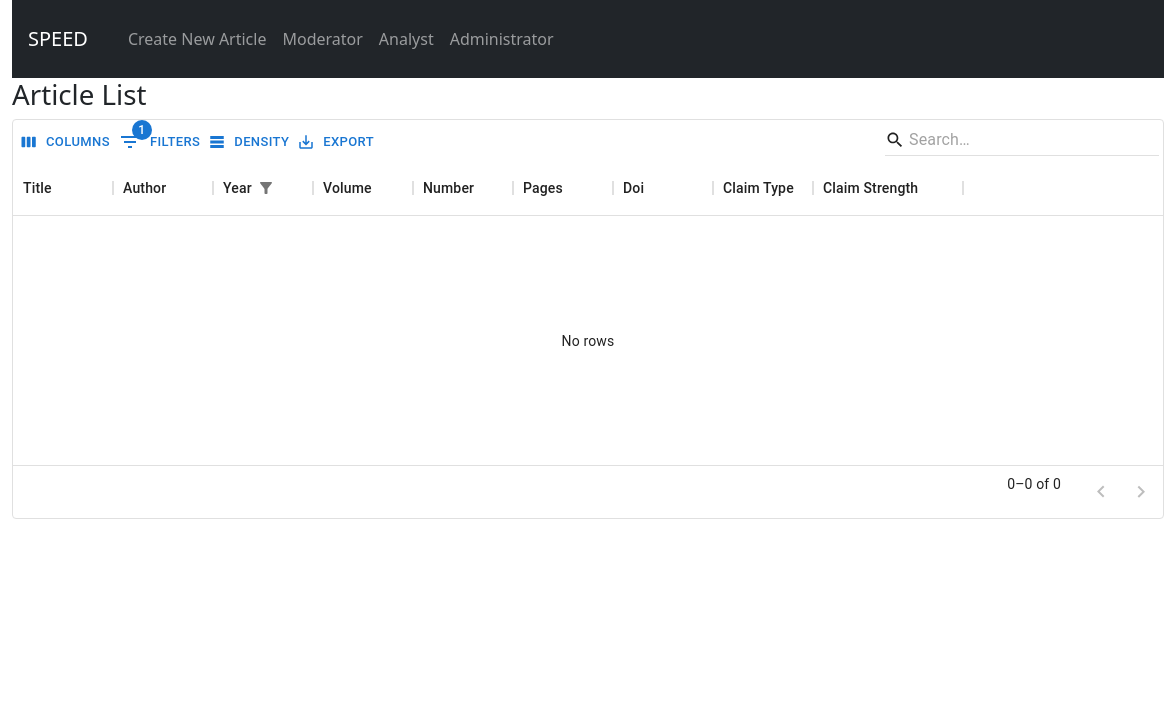
Scenario: Testing moderatorList.js › Render ModeratorList page
The image size is (1176, 720).
Click the link "Moderator".
click(323, 39)  # box [282,28,363,50]
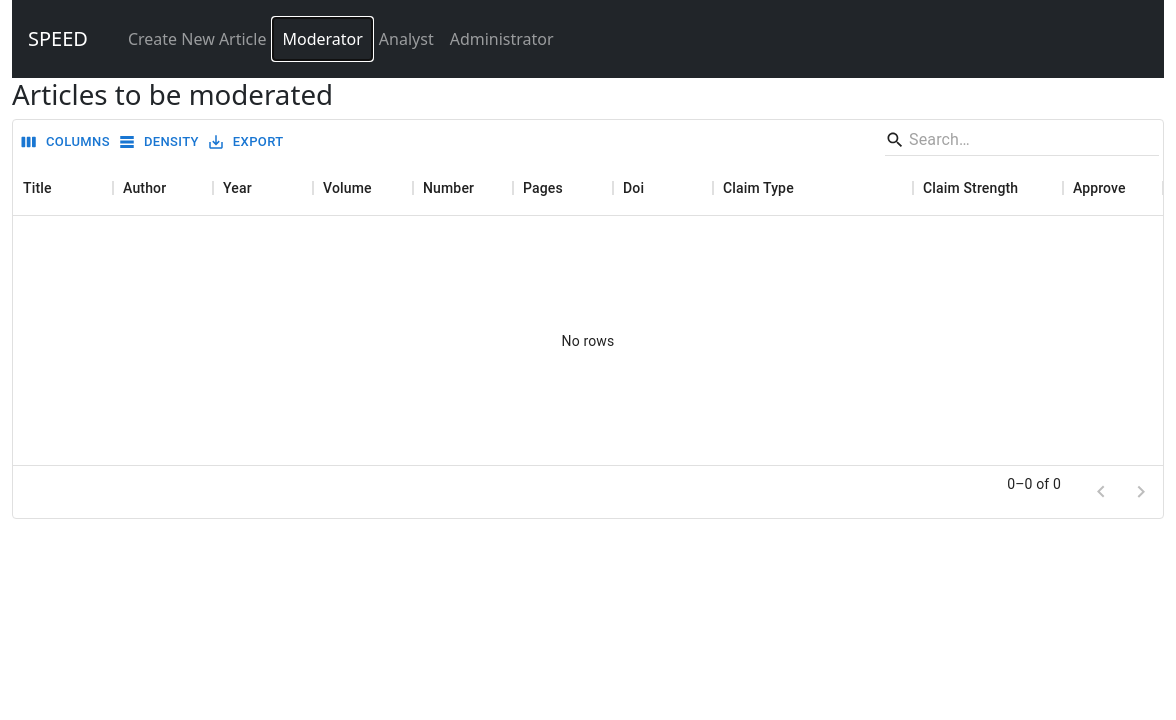
Check: the heading "Articles to be moderated" is shown, box [12,75,333,113]
